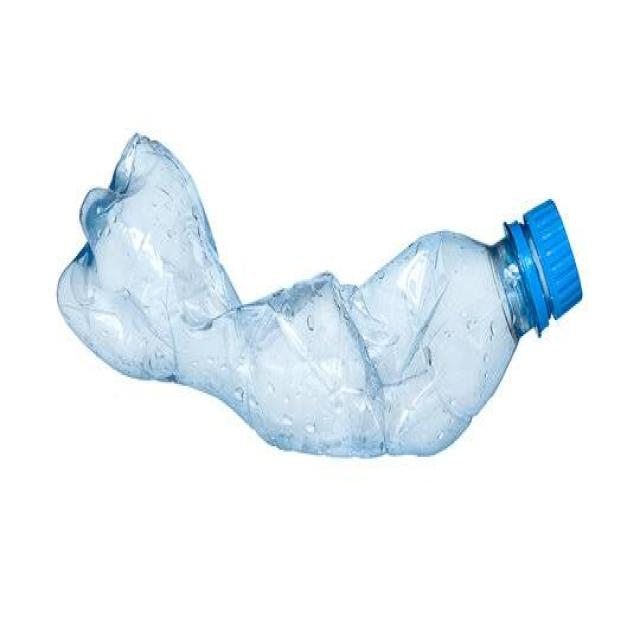plastic: (51, 127, 590, 475)
